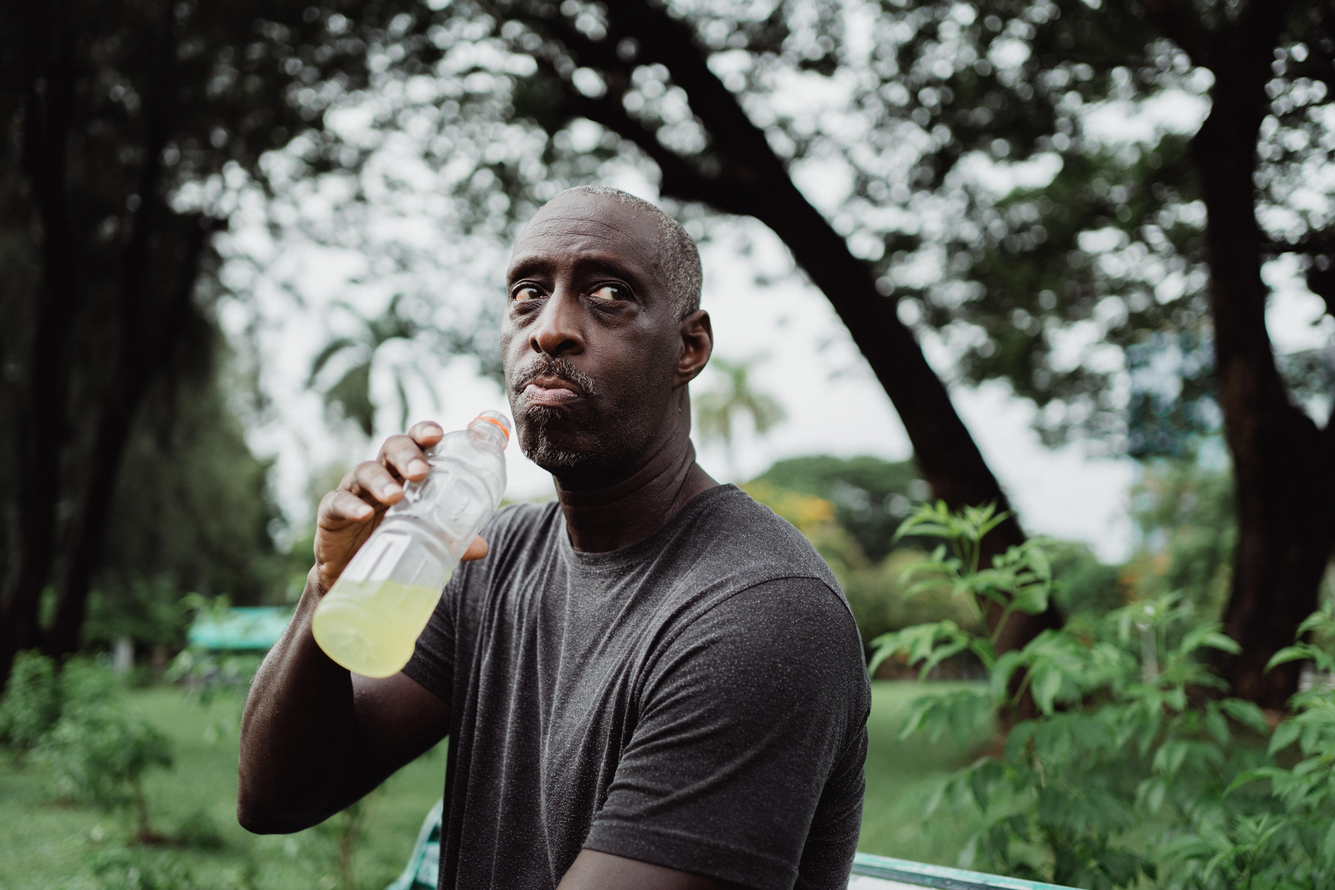bottle-plastic: (298, 402, 529, 682)
